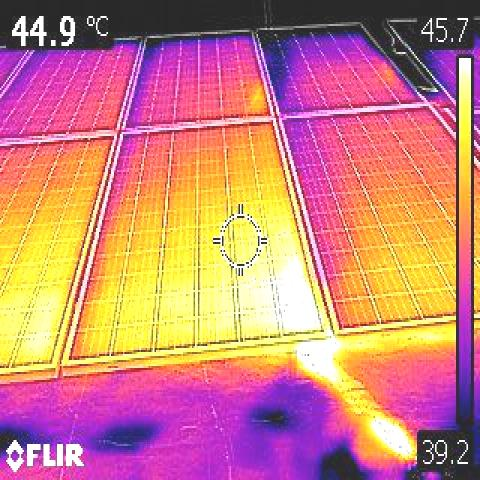fault: (267, 254, 317, 332)
